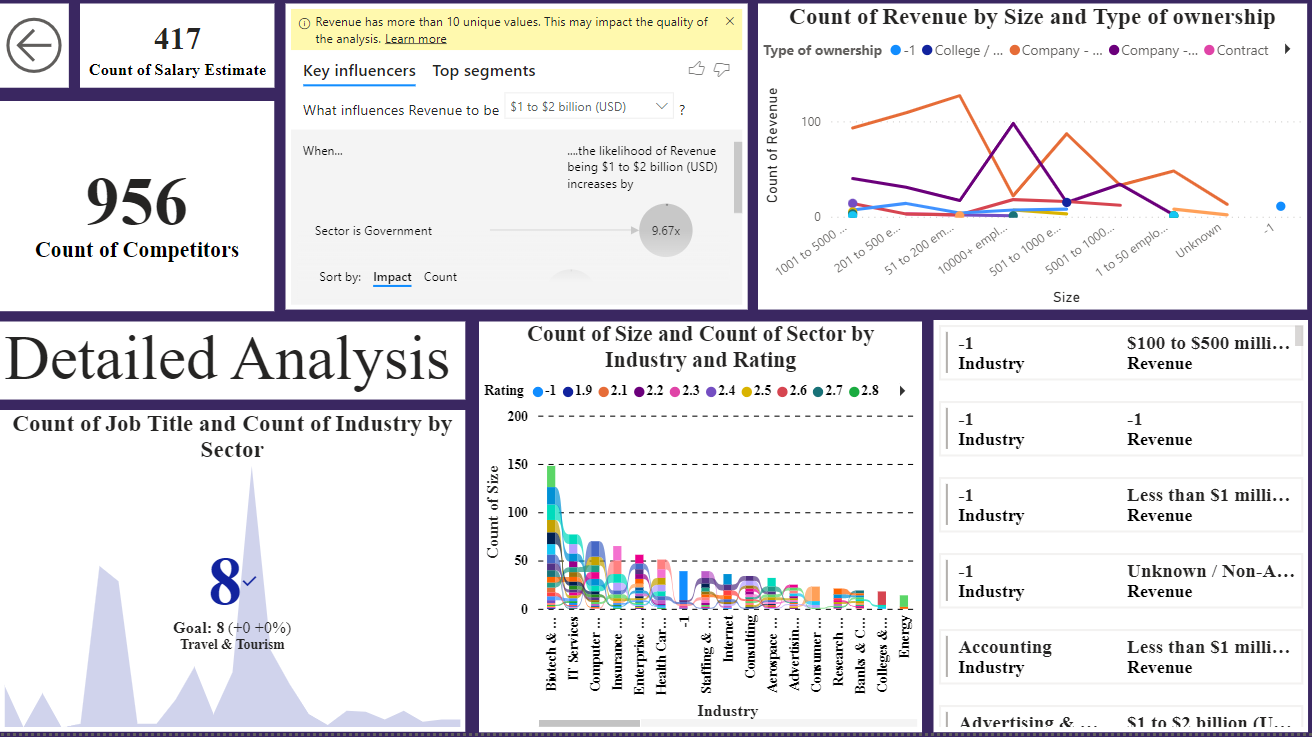

What the dashboard file says about the page in this screenshot:
{"tool":"powerbi","page":{"name":"Detailed  Analysis","canvas":[1280,720],"ordinal":4},"visuals":[{"type":"keyDriversVisual","fields":{"Target":["glassdoor_jobs.Revenue"],"ExplainBy":["CountNonNull(glassdoor_jobs.Industry)","glassdoor_jobs.Sector"]},"box":[278.6,10.6,449.7,298.3],"z":0},{"type":"textbox","title":"Detailed Analysis","box":[0,319.5,454.3,75.7],"z":1000},{"type":"kpi","fields":{"Indicator":["CountNonNull(glassdoor_jobs.Job Title)"],"TrendLine":["glassdoor_jobs.Sector"],"Goal":["CountNonNull(glassdoor_jobs.Industry)"]},"box":[0,405.8,454.3,313.4],"z":2000},{"type":"actionButton","box":[0,10.6,68.1,81.8],"z":3000},{"type":"ribbonChart","fields":{"Category":["glassdoor_jobs.Industry"],"Series":["glassdoor_jobs.Rating"],"Y":["CountNonNull(glassdoor_jobs.Size)"]},"box":[467.9,319.5,431.5,399.8],"z":4000},{"type":"lineChart","fields":{"Y":["CountNonNull(glassdoor_jobs.Revenue)"],"Series":["glassdoor_jobs.Type of ownership"],"Category":["glassdoor_jobs.Size"]},"box":[738.9,10.6,534.5,298.3],"z":5000},{"type":"multiRowCard","fields":{"Values":["glassdoor_jobs.Industry","glassdoor_jobs.Revenue"]},"box":[910,318,364.9,401.3],"z":6000},{"type":"card","fields":{"Values":["CountNonNull(glassdoor_jobs.Competitors)"]},"box":[0,104.5,268,204.4],"z":7000},{"type":"card","fields":{"Values":["Count(glassdoor_jobs.Salary Estimate)"]},"box":[78.7,10.6,189.3,81.8],"z":8000}]}

Visuals, with their boxes in screenshot pixels (x1, y1, x2, y2), scaled from the page's 1280x720 canvas onto the 1312x737 screenshot:
keyDriversVisual - glassdoor_jobs.Revenue x CountNonNull(glassdoor_jobs.Industry): bbox(286, 11, 747, 316)
"Detailed Analysis" textbox: bbox(0, 327, 466, 405)
kpi - CountNonNull(glassdoor_jobs.Job Title) x glassdoor_jobs.Sector: bbox(0, 415, 466, 736)
actionButton: bbox(0, 11, 70, 95)
ribbonChart - glassdoor_jobs.Industry x glassdoor_jobs.Rating: bbox(480, 327, 922, 736)
lineChart - CountNonNull(glassdoor_jobs.Revenue) x glassdoor_jobs.Type of ownership: bbox(757, 11, 1305, 316)
multiRowCard - glassdoor_jobs.Industry x glassdoor_jobs.Revenue: bbox(933, 326, 1307, 736)
card - CountNonNull(glassdoor_jobs.Competitors): bbox(0, 107, 275, 316)
card - Count(glassdoor_jobs.Salary Estimate): bbox(81, 11, 275, 95)
